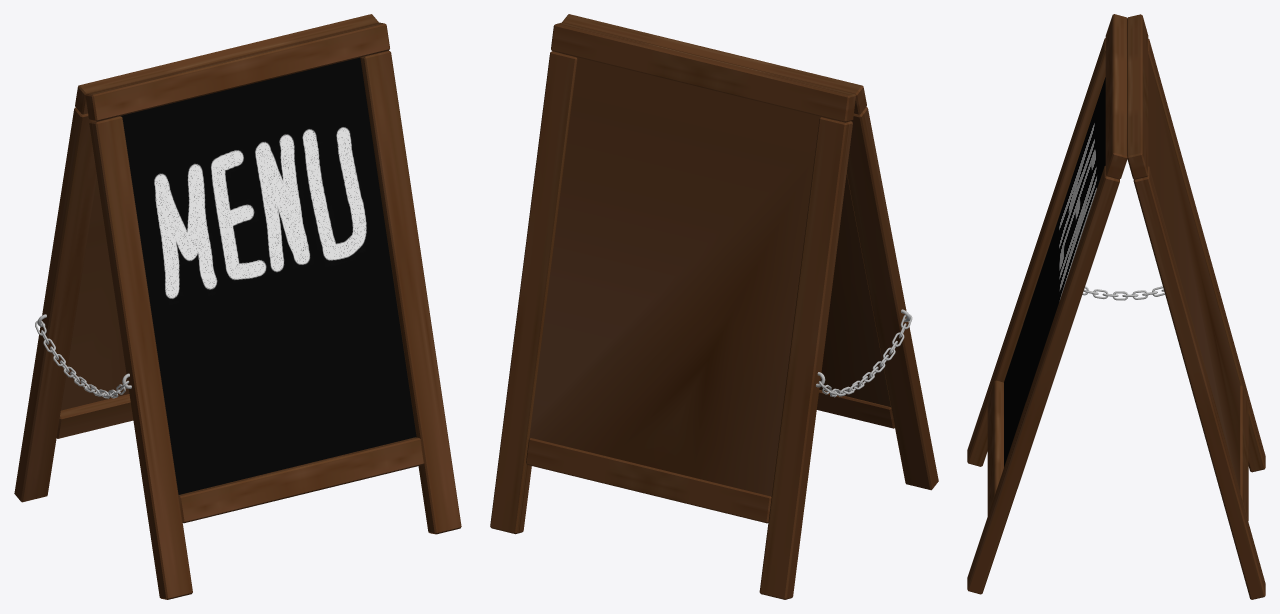
Rendered from menu.glb.
3 views of the same model, side by side, from view 1: azimuth 30°, elevation 25°; view 2: azimuth 150°, elevation 25°; view 3: azimuth 270°, elevation 25° (orthographic). The views are drawn at different scales.
Visible parts, largest first — view 1: Object_8, Object_4, Object_6; view 2: Object_4, Object_6; view 3: Object_4, Object_8, Object_6.
Part boxes in pixels (x1,y1,x2,y2): Object_8: (120,57,416,494); Object_4: (14,14,461,599); Object_6: (35,314,131,398); Object_4: (490,14,938,599); Object_6: (816,309,912,397); Object_4: (967,14,1265,599); Object_8: (1004,77,1105,466); Object_6: (1082,286,1164,300).
Bounding box in the file's own units: 1.95 × 2.82 × 1.71.
Materials: 3 (2 with a texture image).
